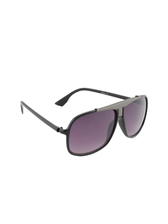glasses: (10, 81, 152, 151)
